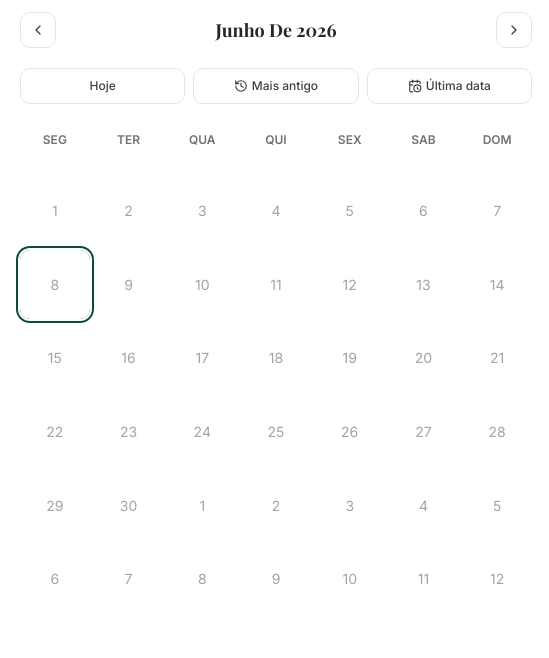
Scenario: ActivitiesMonthCalendar › jumps between today, the oldest activity and the latest activity
Expected: the text "junho de 2026" is shown, [215,16,337,44]
Click the button "Mais antigo": click(276, 86) [193,68,359,104]
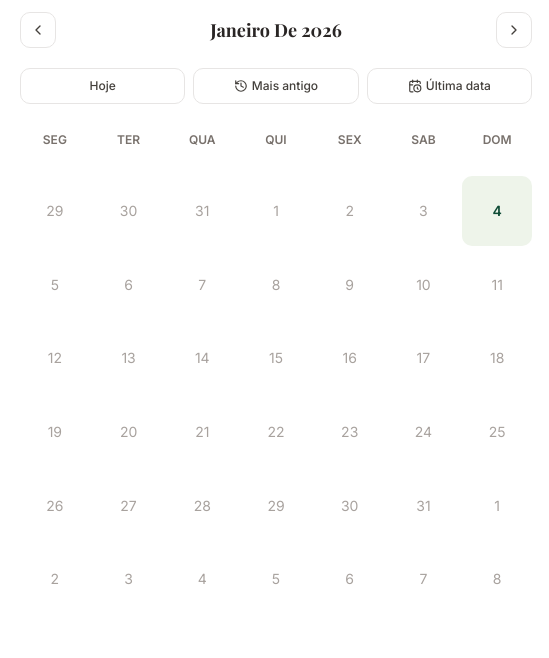
Now the text "janeiro de 2026" is shown, box [210,16,342,44]
Click the button "Última data": click(449, 86) [367,68,532,104]
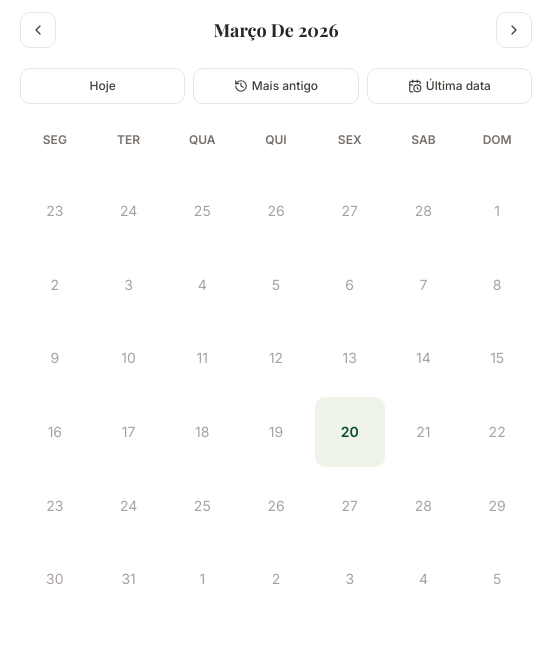
Now the text "março de 2026" is shown, box [214,16,338,44]
Click the button "Hoje": click(103, 86) [20,68,185,104]
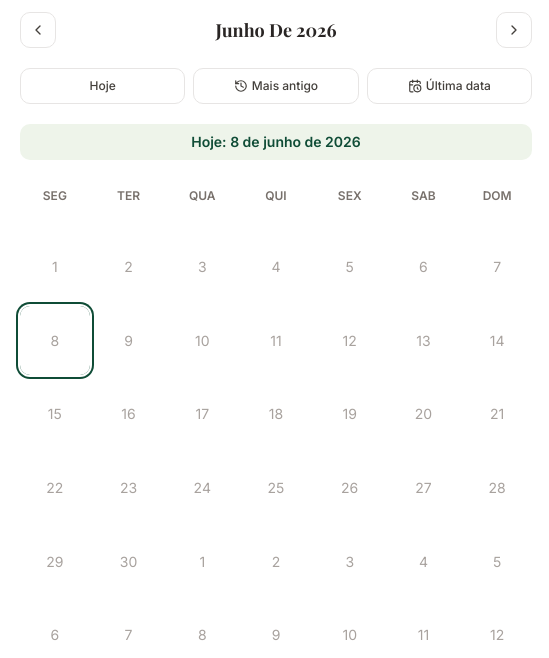
Now the text "junho de 2026" is shown, box [215,16,337,44]
Now the text "Hoje: 8 de junho de 2026" is shown, box [20,124,532,160]
Now the button named "Hoje, 8 de junho de 2026" is shown, box [20,306,90,375]
Click the button "Mais antigo": click(276, 86) [193,68,359,104]
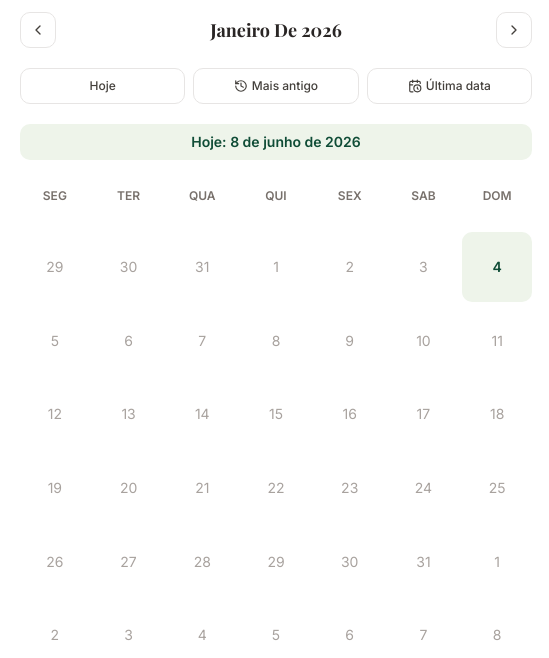
Now the text "janeiro de 2026" is shown, box [210,16,342,44]
